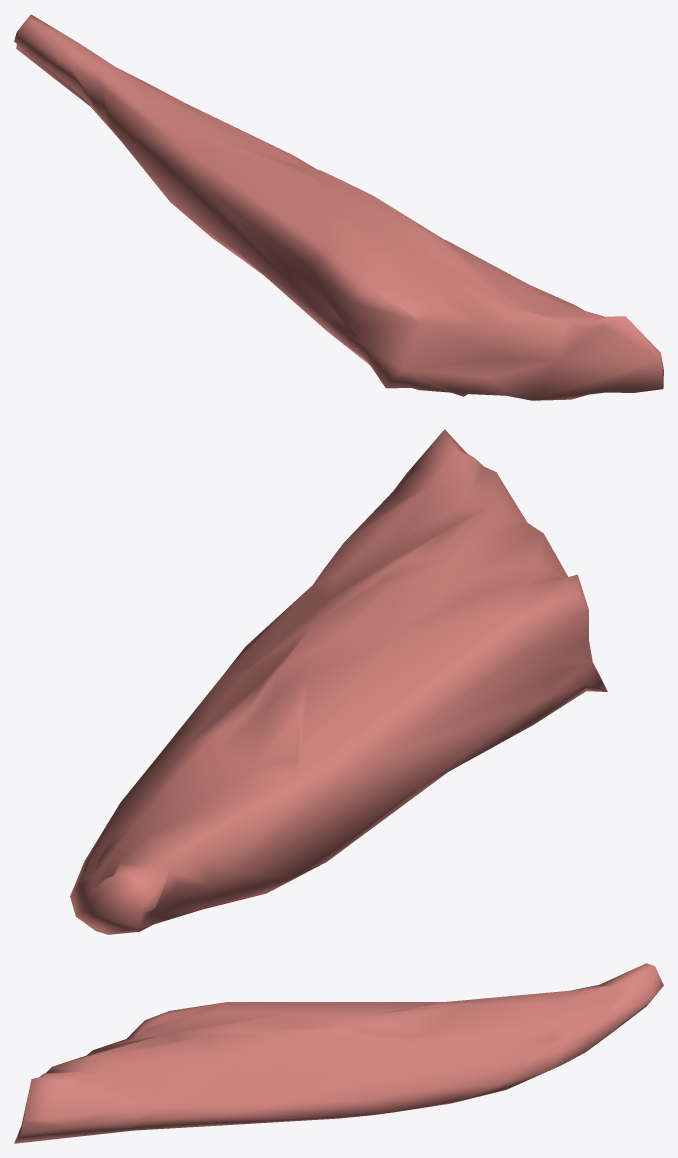
The picture shows the model from 3 angles, top to bottom: view 1: azimuth 30°, elevation 25°; view 2: azimuth 150°, elevation 25°; view 3: azimuth 270°, elevation 25°; orthographic projection. The views are drawn at different scales.
Parts seen in each view (by area): view 1: ZA_70dba3b47f03f2a6; view 2: ZA_70dba3b47f03f2a6; view 3: ZA_70dba3b47f03f2a6.
Boxes of the visible parts, left/top/right/bottom form: ZA_70dba3b47f03f2a6: left=14, top=14, right=663, bottom=400; ZA_70dba3b47f03f2a6: left=70, top=429, right=607, bottom=934; ZA_70dba3b47f03f2a6: left=14, top=963, right=663, bottom=1143.
Bounding box in the file's own units: 0.012 × 0.00633 × 0.0358.
